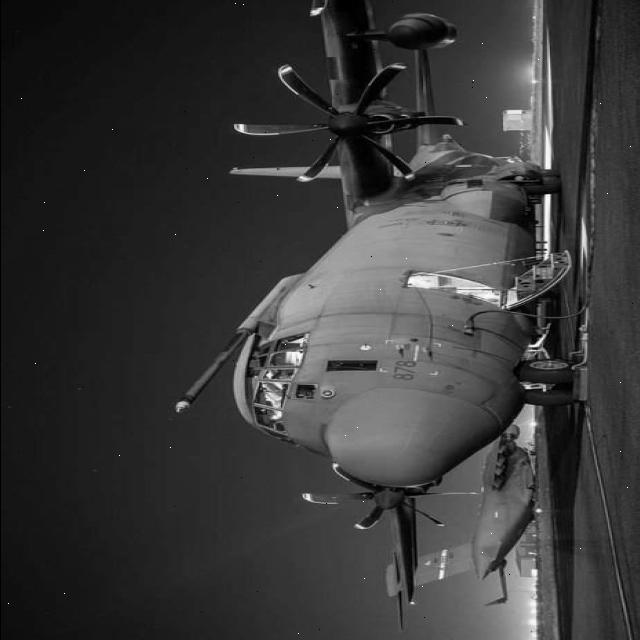C130: (138, 0, 606, 640)
